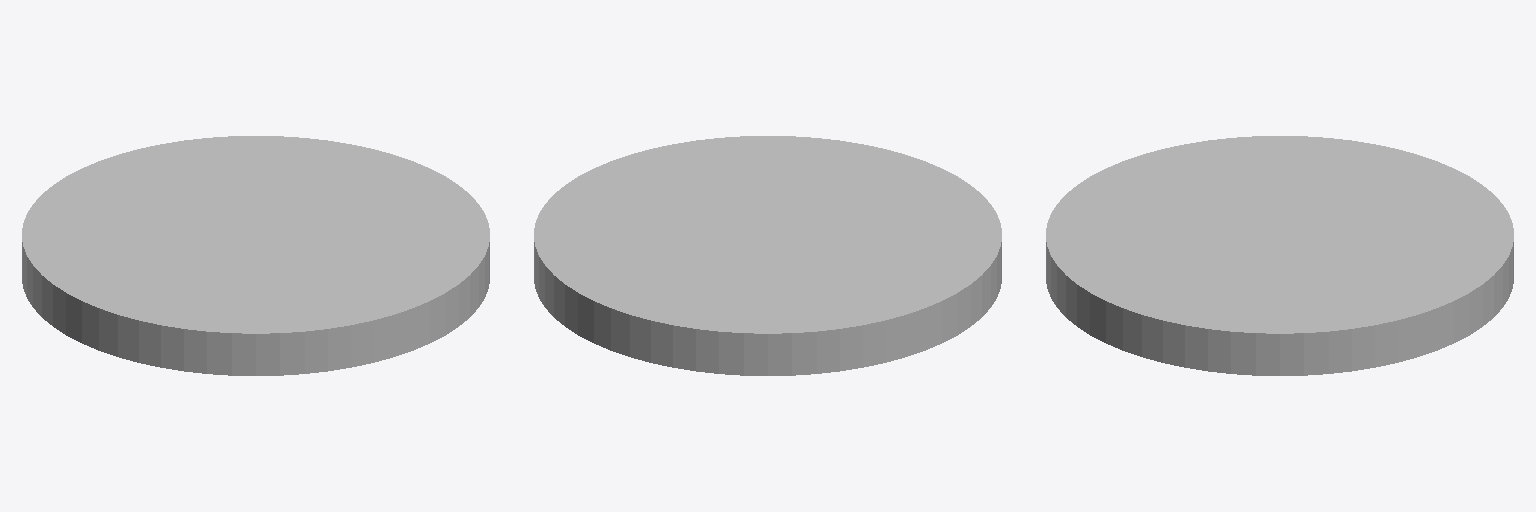
The model's file is coin.obj.
3 renders of one model, left to right at view 1: azimuth 30°, elevation 25°; view 2: azimuth 150°, elevation 25°; view 3: azimuth 270°, elevation 25°, orthographic.
Visible parts, largest first — view 1: Cylinder1; view 2: Cylinder1; view 3: Cylinder1.
Part boxes in pixels (left/top/right/bottom): Cylinder1: left=22, top=136, right=489, bottom=375; Cylinder1: left=534, top=136, right=1001, bottom=375; Cylinder1: left=1046, top=136, right=1513, bottom=375.
Size of the model in its own units: 2 by 0.2 by 2.